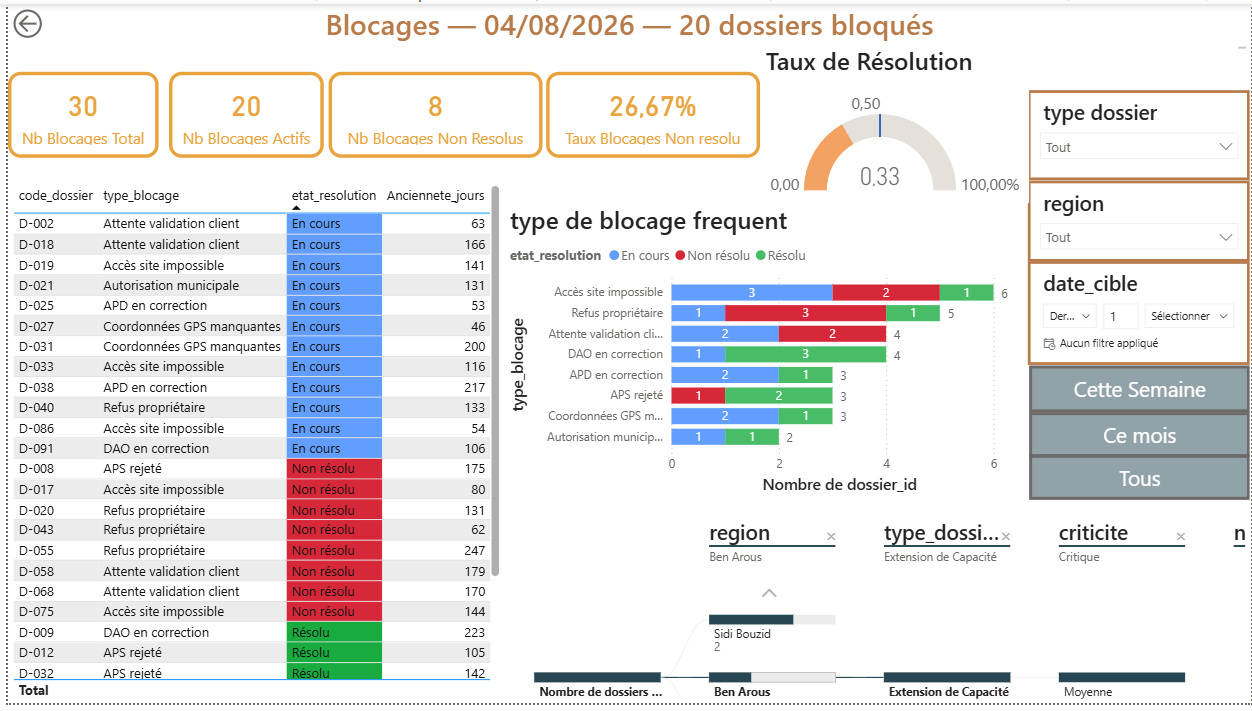

What the dashboard file says about the page in this screenshot:
{"tool":"powerbi","page":{"name":"Blocages","canvas":[1280,720],"ordinal":2},"visuals":[{"type":"textbox","box":[0,0,1279.6,50.9],"z":0},{"type":"tableEx","fields":{"Values":["Dossier.code_dossier","Blocage.type_blocage","Blocage.etat_resolution","Blocage.Anciennete_jours"]},"box":[0,181.3,511.3,539.2],"z":1000},{"type":"slicer","fields":{"Values":["Dossier.region"]},"box":[1050.4,181.3,229.3,83.7],"z":2000},{"type":"slicer","fields":{"Values":["Dossier.type_dossier"]},"box":[1050.4,88.3,229.3,93],"z":3000},{"type":"slicer","fields":{"Values":["Echeance.date_cible"]},"box":[1050.4,264.9,229.3,106.9],"z":4000},{"type":"actionButton","title":"Cette semaine","box":[1052,371.8,227.7,48],"z":5000},{"type":"actionButton","title":"Cette semaine","box":[1052,419.9,227.7,46.5],"z":6000},{"type":"actionButton","title":"Cette semaine","box":[1052,463.2,227.7,46.5],"z":7000},{"type":"actionButton","box":[0,0,100,40],"z":8000},{"type":"decompositionTreeVisual","fields":{"ExplainBy":["Dossier.region","Dossier.type_dossier","Dossier.criticite","Phase.nom_phase"],"Analyze":["Dossier.Nombre de dossiers bloqués"]},"box":[511.3,522.1,766.9,198.3],"z":9000},{"type":"card","fields":{"Values":["Count(Blocage.blocage_id)"]},"box":[0,69.7,154.9,88.3],"z":10000},{"type":"card","fields":{"Values":["Blocage.Nb Blocages Actifs"]},"box":[165.8,69.7,159.6,88.3],"z":11000},{"type":"barChart","title":"type de blocage frequent","fields":{"Category":["Blocage.type_blocage"],"Y":["CountNonNull(Blocage.dossier_id)"],"Series":["Blocage.etat_resolution"]},"box":[511.3,204.5,526.8,305.2],"z":12000},{"type":"card","fields":{"Values":["Blocage.Nb Blocages Non Resolus"]},"box":[330,69.7,220,88.3],"z":13000},{"type":"card","fields":{"Values":["Blocage.Taux Non Resolution Blocages"]},"box":[554.7,69.7,220,88.3],"z":14000},{"type":"gauge","title":"Taux de Résolution","fields":{"TargetValue":["Dossier.Objectif taux clôture"],"MaxValue":["Dossier.Maximum taux retard"],"Y":["Blocage.Taux Resolution Blocages"]},"box":[774.7,40.3,275.8,164.2],"z":15000}]}

Visuals, with their boxes in screenshot pixels (x1, y1, x2, y2), scaled from the page's 1280x720 canvas onto the 1252x711 screenshot:
textbox: [left=0, top=0, right=1251, bottom=50]
tableEx - Dossier.code_dossier x Blocage.type_blocage: [left=0, top=179, right=500, bottom=710]
slicer - Dossier.region: [left=1027, top=179, right=1251, bottom=262]
slicer - Dossier.type_dossier: [left=1027, top=87, right=1251, bottom=179]
slicer - Echeance.date_cible: [left=1027, top=262, right=1251, bottom=367]
"Cette semaine" actionButton: [left=1029, top=367, right=1251, bottom=415]
"Cette semaine" actionButton: [left=1029, top=415, right=1251, bottom=461]
"Cette semaine" actionButton: [left=1029, top=457, right=1251, bottom=503]
actionButton: [left=0, top=0, right=98, bottom=40]
decompositionTreeVisual - Dossier.region x Dossier.type_dossier: [left=500, top=516, right=1250, bottom=710]
card - Count(Blocage.blocage_id): [left=0, top=69, right=152, bottom=156]
card - Blocage.Nb Blocages Actifs: [left=162, top=69, right=318, bottom=156]
"type de blocage frequent" barChart: [left=500, top=202, right=1015, bottom=503]
card - Blocage.Nb Blocages Non Resolus: [left=323, top=69, right=538, bottom=156]
card - Blocage.Taux Non Resolution Blocages: [left=543, top=69, right=758, bottom=156]
"Taux de Résolution" gauge: [left=758, top=40, right=1028, bottom=202]
